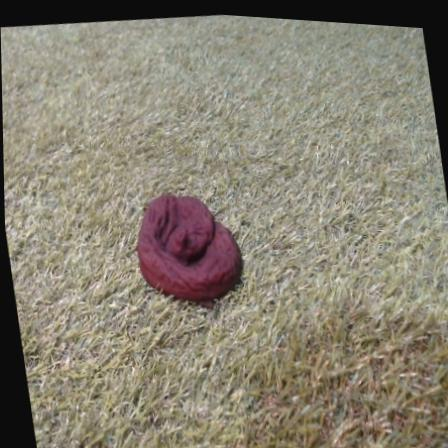dog-poop: (124, 179, 248, 306)
